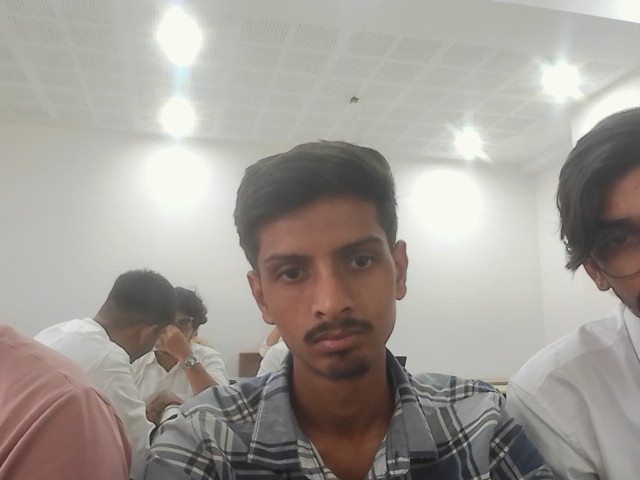light_on: (543, 66, 605, 130), (538, 193, 571, 271), (151, 87, 203, 133), (443, 115, 493, 162), (615, 5, 636, 25)
person: (502, 107, 639, 479), (31, 266, 182, 479), (0, 316, 132, 479), (134, 284, 229, 417)
